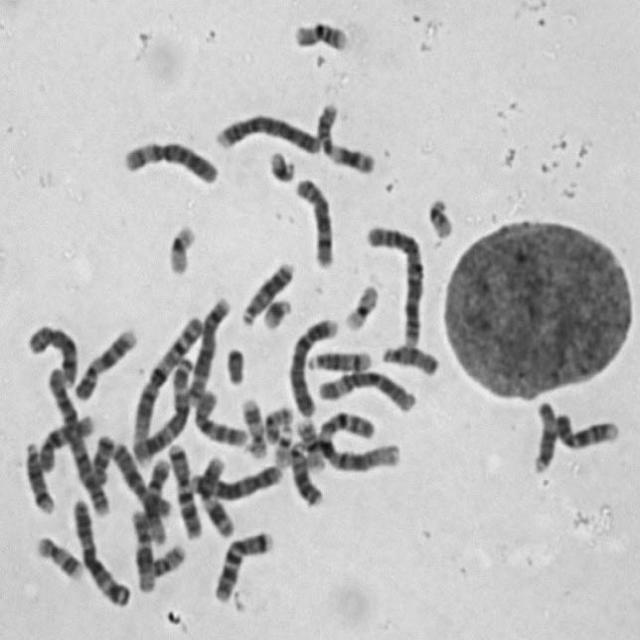A1: (129, 311, 205, 468), (312, 405, 404, 473)
A2: (42, 362, 112, 516), (362, 218, 427, 348)
A3: (130, 349, 197, 464), (69, 493, 133, 608)
B4: (286, 312, 341, 418), (211, 108, 322, 156)
B5: (183, 293, 232, 408), (185, 458, 284, 501)
C10: (34, 408, 97, 473), (191, 384, 251, 448)
C11: (313, 96, 380, 176), (197, 451, 237, 538)
C12: (141, 454, 172, 546), (127, 507, 157, 593)
C6: (118, 133, 221, 187), (312, 364, 417, 414)
C7: (210, 526, 276, 605), (164, 438, 204, 540)
C8: (290, 173, 337, 270), (23, 319, 80, 390)
C9: (71, 322, 139, 402), (551, 405, 621, 451)
D13: (237, 256, 296, 328), (285, 439, 324, 507)
D14: (20, 437, 57, 515), (303, 344, 374, 374)
D15: (528, 394, 558, 476), (379, 339, 441, 377)
E16: (289, 14, 352, 53), (292, 413, 327, 472)
E17: (32, 530, 85, 582), (238, 393, 268, 460)
E18: (86, 428, 115, 486)
F19: (341, 279, 381, 333), (163, 218, 199, 278)
F20: (147, 538, 188, 578), (260, 401, 296, 445)
G21: (258, 293, 294, 332), (264, 146, 297, 185)
G22: (422, 192, 458, 240), (270, 424, 294, 468)
X: (108, 436, 172, 518)
Y: (222, 342, 248, 387)
